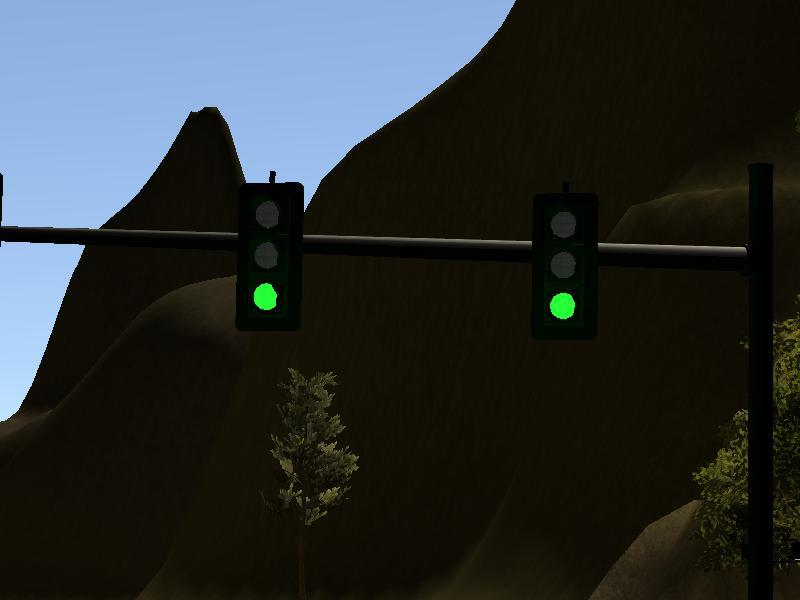Green: (248, 185, 300, 325), (535, 202, 591, 328)
